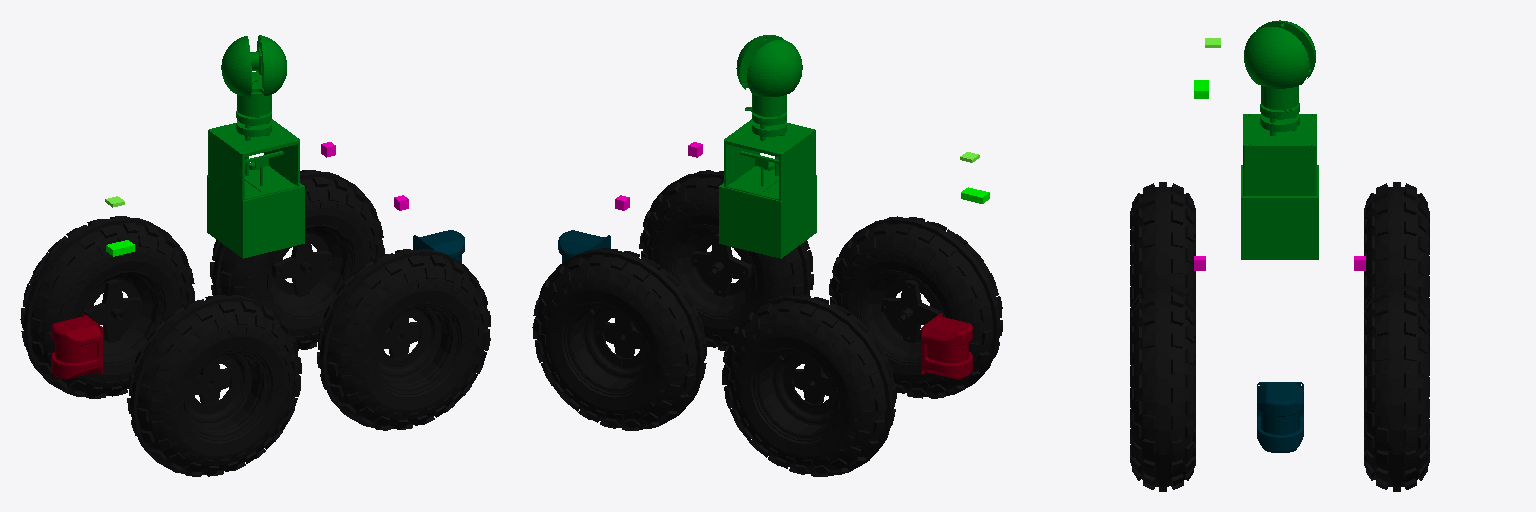
URDF robot description (teo):
<!--
~~~~~~~~~~~~~~~~~~~~~~~~~~~~~~~~~~~~~~~~~~~~~~~~~~~~~~~~~~~~~~~~~~~~~~~~~~~~~~~~
          TEO ROBOT URDF MODEL
~~~~~~~~~~~~~~~~~~~~~~~~~~~~~~~~~~~~~~~~~~~~~~~~~~~~~~~~~~~~~~~~~~~~~~~~~~~~~~~~
          Institut de Robotica i Informatica Industrial (IRI) UPC-CSIC
          author: mmorta
~~~~~~~~~~~~~~~~~~~~~~~~~~~~~~~~~~~~~~~~~~~~~~~~~~~~~~~~~~~~~~~~~~~~~~~~~~~~~~~~
  units: [m], [rad] (SI)
  constants:
  pi   = 3.14159
  pi/2 = 1.57079

  Basic Transformation Pro Engineer to URDF (If no coordinates changed)
    <origin xyz="0 0 0" rpy="1.57079 0 0"/>

  Basic Transformation SolidWorks to URDF
    <origin xyz="0 0 0" rpy="1.57079 0 0"/>
 -->

<robot name="teo"
    xmlns:sensor="http://playerstage.sourceforge.net/gazebo/xmlschema/#sensor"
    xmlns:controller="http://playerstage.sourceforge.net/gazebo/xmlschema/#controller"
    xmlns:interface="http://playerstage.sourceforge.net/gazebo/xmlschema/#interface">


<!-- BODY FOOTPRINT -->
  <!-- link -->
  <link name="base_footprint">
    <visual>
      <origin xyz="0 0 0" rpy="0 0 0"/>
      <geometry>
        <box size="0.01 0.01 0.01"/>
      </geometry>
    </visual>
<!-- gazebo (inertia, collision, material)-->
    <inertial>
      <origin xyz="0 0 0"/>
      <mass value="0.01" />
      <inertia  ixx="0.001" ixy="0.0"  ixz="0.0"  iyy="0.001"  iyz="0.0"  izz="0.001"/>
    </inertial>
    <collision>
      <!-- it has to be the same origin as the visual origin-->
      <origin xyz="0 0 0"/>
      <geometry>
        <!-- box containing the model -->
        <box size="0.01 0.01 0.01"/>
      </geometry>
    </collision>
  </link>


<!-- BODY
      a coordinates center has been added in the CAD model in order to not have
      to change rpy (ref_teo). It is in the middle of the model except the Z
      which is in the wheels' axes' Z
-->
  <!-- joint -->
  <joint name="base_footprint2base_link" type="fixed" >
    <parent link="base_footprint"/>
    <child link="base_link"/>
    <origin xyz="0 0 0.2667" rpy="0 0 0"/>
  </joint>
  <!-- link -->
  <link name="base_link">
    <visual>
      <origin xyz="0 0 0" rpy="0 0 3.14159"/>
      <geometry>
        <!-- pro engineer model exported to STL -->
        <mesh filename="package://teo_base/model/meshes/rmp400_body_m_v2.stl" />
      </geometry>
      <material name="grey">
        <color rgba="0.3 0.3 .3 0.5"/>
      </material>
    </visual>
    <!-- gazebo (inertia, collision, material)-->
    <inertial>
      <origin xyz="0 0 0"/>
      <mass value="100.0" />
      <inertia  ixx="1.748" ixy="0.0"  ixz="0.0"  iyy="8.448"  iyz="0.0"  izz="8.982"/>
    </inertial>
    <collision>
      <!-- it has to be the same origin as the visual origin-->
      <origin xyz="0 0 0.1"/>
      <geometry>
        <!-- leaving some space extra -->
        <box size="1.40 0.45 0.5"/>
      </geometry>
      <material name="red">
        <color rgba="0.8 0.1 .1 0.5"/>
      </material>
    </collision>
  </link>
  <gazebo reference="body">
    <material>PR2/Grey3</material>
  </gazebo>

<!-- WHEEL FRONT LEFT
      It is already rotated in the real CAD file, so the rotation is not
      automatic.
      It is centered in 0, so its joint needs an offset XYZ
-->
  <!-- joint -->
  <joint name="base_link2wheel_fl" type="continuous" >
    <parent link="base_link"/>
    <child link="wheel_fl"/>
    <origin xyz="0.3039 0.2857 0.0" rpy="0 0 0"/>
    <axis xyz="0 1 0" />
  </joint>
  <!-- link -->
  <link name="wheel_fl">
    <visual>
      <origin xyz="0 0 0" rpy="0 0 0 "/>
      <geometry>
        <mesh filename="package://teo_base/model/meshes/rmp400_wheel_m.stl" />
      </geometry>
      <material name="dark_grey">
        <color rgba="0.1 0.1 0.1 1"/>
      </material>
    </visual>
    <inertial>
      <mass value="3.0" />
      <inertia  ixx="0.0529" ixy="0.0"  ixz="0.0"  iyy="0.09375"  iyz="0.0"  izz="0.0529"/>
    </inertial>
    <collision>
      <geometry>
        <cylinder length="0.20" radius="0.28"/>
      </geometry>
    </collision>
  </link>
  <gazebo reference="wheel_fl">
    <material>Gazebo/Black</material>
  </gazebo>

<!-- WHEEL FRONT RIGHT -->
  <!-- joint -->
  <joint name="base_link2wheel_fr" type="continuous" >
    <parent link="base_link"/>
    <child link="wheel_fr"/>
    <origin xyz="0.3039 -0.2857 0.0" rpy="0 0 3.14159"/>
     <axis xyz="0 1 0" />
  </joint>
  <!-- link -->
  <link name="wheel_fr">
    <visual>
      <origin xyz="0 0 0" rpy="0 0 0 "/>
      <geometry>
        <mesh filename="package://teo_base/model/meshes/rmp400_wheel_m.stl" />
      </geometry>
      <material name="dark_grey">
        <color rgba="0.1 0.1 0.1 1"/>
      </material>
    </visual>
    <inertial>
      <mass value="3.0" />
      <inertia  ixx="0.0529" ixy="0.0"  ixz="0.0"  iyy="0.09375"  iyz="0.0"  izz="0.0529"/>
    </inertial>
    <collision>
      <origin xyz="0 0 0" rpy="1.57079 0 0"/>
      <geometry>
        <cylinder length="0.20" radius="0.28"/>
      </geometry>
    </collision>
  </link>
  <gazebo reference="wheel_fr">
    <material>Gazebo/Black</material>
  </gazebo>

<!-- WHEEL BACK LEFT -->
  <!-- joint -->
  <joint name="base_link2wheel_bl" type="continuous" >
    <parent link="base_link"/>
    <child link="wheel_bl"/>
    <origin xyz="-0.3039 0.2857 0.0" rpy="0 0 0"/>
    <axis xyz="0 1 0" />
  </joint>
  <!-- link -->
  <link name="wheel_bl">
    <visual>
      <origin xyz="0 0 0" rpy="0 0 0 "/>
      <geometry>
        <mesh filename="package://teo_base/model/meshes/rmp400_wheel_m.stl" />
      </geometry>
      <material name="dark_grey">
        <color rgba="0.1 0.1 0.1 1"/>
      </material>
    </visual>
    <inertial>
      <mass value="3.0" />
      <inertia  ixx="0.0529" ixy="0.0"  ixz="0.0"  iyy="0.09375"  iyz="0.0"  izz="0.0529"/>
    </inertial>
    <collision>
      <origin xyz="0 0 0" rpy="1.57079 0 0"/>
      <geometry>
        <cylinder length="0.20" radius="0.28"/>
      </geometry>
    </collision>
  </link>
  <gazebo reference="wheel_bl">
    <material>Gazebo/Black</material>
  </gazebo>

<!-- WHEEL BACK RIGHT -->
  <!-- joint -->
  <joint name="base_link2wheel_br" type="continuous" >
    <parent link="base_link"/>
    <child link="wheel_br"/>
    <origin xyz="-0.3039 -0.2857 0.0" rpy="0 0 3.14159"/>
    <axis xyz="0 1 0" />
  </joint>
  <!-- link -->
  <link name="wheel_br">
    <visual>
      <origin xyz="0 0 0" rpy="0 0 0 "/>
      <geometry>
        <mesh filename="package://teo_base/model/meshes/rmp400_wheel_m.stl" />
      </geometry>
      <material name="dark_grey">
        <color rgba="0.1 0.1 0.1 1"/>
      </material>
    </visual>
    <inertial>
      <mass value="3.0" />
      <inertia  ixx="0.0529" ixy="0.0"  ixz="0.0"  iyy="0.09375"  iyz="0.0"  izz="0.0529"/>
    </inertial>
    <collision>
      <origin xyz="0 0 0" rpy="1.57079 0 0"/>
      <geometry>
        <cylinder length="0.20" radius="0.28"/>
      </geometry>
    </collision>
  </link>
  <gazebo reference="wheel_br">
    <material>Gazebo/Black</material>
  </gazebo>


  <!-- FRONT LASER-->
  <!-- joint -->
  <joint name="base_link2front_laser" type="fixed" >
    <parent link="base_link"/>
    <child link="front_laser"/>
    <!--
    x = 0.435 (long box=0.870) + 0.155 (position in frame)
    y = 0
    z = 0.05 (laser position, cc_teo->bottom laser)
    -->
    <origin xyz="0.590 0 0.05" rpy="0 0 0"/>
  </joint>
  <!-- link -->
  <link name="front_laser">
    <visual>
      <!-- from STL origin to real sensor origin 0.0625-->
      <origin xyz="-0.05 -0.06 -0.073" rpy="0 0 0"/>
      <geometry>
        <mesh filename="package://teo_base/model/meshes/UXM30LN_m_v2.stl" />
      </geometry>
      <material name="blue_navy">
        <color rgba="0.0 0.2 0.25 0.5"/>
      </material>
    </visual>
    <inertial>
      <mass value="0.800" />
      <inertia  ixx="0.00238" ixy="0.0"  ixz="0.0"  iyy="0.00246"  iyz="0.0"  izz="0.00200"/>
    </inertial>
    <collision>
      <origin xyz="0 0 0" rpy="0 0 0"/>
      <geometry>
        <box size="0.125 0.120 0.146"/>
      </geometry>
    </collision>
  </link>
  <gazebo reference="front_laser">
    <material>Gazebo/Blue</material>
  </gazebo>


  <!-- REAR LASER-->
  <!-- joint -->
  <joint name="base_link2rear_laser" type="fixed" >
    <parent link="base_link"/>
    <child link="rear_laser"/>
    <!--
    x = 0.435 (long box=0.870) + 0.95 (position in frame)
    y = 0
    z = 0.06 (laser position, cc_teo->bottom laser)
    -->
    <origin xyz="-0.575 0 0.06" rpy="0 0 3.14159"/>
  </joint>
  <!-- link -->
  <link name="rear_laser">
    <visual>
      <!-- from STL origin to real sensor origin -->
      <origin xyz="-0.05 -0.06 -0.073" rpy="0 0 0"/>
      <geometry>
        <mesh filename="package://teo_base/model/meshes/UXM30LN_m_v2.stl" />
      </geometry>
      <material name="red_navy">
        <color rgba="0.5 0.0 0.1 0.5"/>
      </material>
    </visual>
    <inertial>
      <mass value="0.800" />
      <inertia  ixx="0.00238" ixy="0.0"  ixz="0.0"  iyy="0.00246"  iyz="0.0"  izz="0.00200"/>
    </inertial>
    <collision>
      <origin xyz="0 0 0" rpy="0 0 0"/>
      <geometry>
        <box size="0.125 0.120 0.146"/>
      </geometry>
    </collision>
  </link>
  <gazebo reference="rear_laser">
    <material>Gazebo/Red</material>
  </gazebo>


  <!-- H3D LASER-->
  <!-- joint -->
  <joint name="base_link2h3d" type="fixed" >
    <parent link="base_link"/>
    <child link="h3d"/>
    <!-- position of the center of the sensor! -->
    <origin xyz="0 0 0.8" rpy="0 0 0"/>
  </joint>
  <!-- link -->
  <link name="h3d">
    <visual>
      <!-- from STL origin to real sensor origin -->
      <origin xyz="-0.095 -0.095 -0.38" rpy="0 0 0"/>
      <geometry>
        <mesh filename="package://teo_base/model/meshes/h3d.stl" />
      </geometry>
      <material name="green">
        <color rgba="0.0 0.5 0.1 0.5"/>
      </material>
    </visual>
    <inertial>
      <mass value="8.0" />
      <inertia  ixx="0.04113" ixy="0.0"  ixz="0.0"  iyy="0.04113"  iyz="0.0"  izz="0.04813"/>
    </inertial>
    <collision>
      <origin xyz="0 0 0" rpy="0 0 0"/>
      <geometry>
        <box size="0.125 0.120 0.146"/>
      </geometry>
    </collision>
  </link>
  <joint name="h3dsuport" type="fixed" >
    <parent link="h3d"/>
    <child link="h3d_suport"/>
    <!-- position of the center of the sensor! -->
    <origin xyz="0 0 -0.45" rpy="0 0 0"/>
  </joint>
  <!-- link -->
  <link name="h3d_suport">
    <visual>
      <!-- from STL origin to real sensor origin -->
      <origin xyz="0 0 0" rpy="0 0 0"/>
      <geometry>
        <box size="0.2 0.2 0.175" />
      </geometry>
      <material name="green">
        <color rgba="0.0 0.5 0.1 0.5"/>
      </material>
    </visual>
    <inertial>
      <mass value="2.0" />
      <inertia  ixx="0.01" ixy="0.0"  ixz="0.0"  iyy="0.01"  iyz="0.0"  izz="0.01"/>
    </inertial>
    <collision>
      <origin xyz="0 0 0" rpy="0 0 0"/>
      <geometry>
        <box size="0.2 0.2 0.175" />
      </geometry>
    </collision>
  </link>
  <gazebo reference="h3d">
    <material>Gazebo/Green</material>
  </gazebo>
  <gazebo reference="h3d_suport">
    <material>Gazebo/Green</material>
  </gazebo>


  <!-- FLOOR LASER-->
  <!-- joint -->
  <joint name="base_link2floor_laser" type="fixed" >
    <parent link="base_link"/>
    <child link="floor_laser"/>->
    <origin xyz="0.485 0 -0.01" rpy="3.14159 0.314159 0"/>
  </joint>
  <!-- link -->
  <link name="floor_laser">
    <visual>
      <!-- from STL origin to real sensor origin -->
      <origin xyz="0 0 0" rpy="0 0 0"/>
      <geometry>
        <box size="0.050 0.050 0.070"/>
      </geometry>
      <material name="yellow">
        <color rgba="1 1 0.0 1"/>
      </material>
    </visual>
    <inertial>
      <mass value="0.141" />
      <inertia  ixx="0.0001" ixy="0.0"  ixz="0.0"  iyy="0.0001"  iyz="0.0"  izz="0.0001"/>
    </inertial>
    <collision>
      <origin xyz="-0.0 0.0 0" rpy="0 0 0"/>
      <geometry>
        <box size="0.050 0.050 0.070"/>
      </geometry>
    </collision>
  </link>
  <gazebo reference="floor_laser">
    <material>Gazebo/Yellow</material>
  </gazebo>

  <!-- STEREO RIGHT-->
  <!-- joint -->
  <joint name="base_link2stereo_right" type="fixed" >
    <parent link="base_link"/>
    <child link="stereo_right"/>->
    <origin xyz="0.350 0.203 0.370" rpy="0 0 0"/>
  </joint>
  <!-- link -->
  <link name="stereo_right">
    <visual>
      <!-- from STL origin to real sensor origin -->
      <origin xyz="0 0 0" rpy="0 0 0"/>
      <geometry>
        <box size="0.030 0.030 0.030"/>
      </geometry>
      <material name="pink">
        <color rgba="1 0 0.8 1"/>
      </material>
    </visual>
    <inertial>
      <mass value="0.141" />
      <inertia  ixx="0.0001" ixy="0.0"  ixz="0.0"  iyy="0.0001"  iyz="0.0"  izz="0.0001"/>
    </inertial>
    <collision>
      <origin xyz="-0.0 0.0 0" rpy="0 0 0"/>
      <geometry>
        <box size="0.030 0.030 0.030"/>
      </geometry>
    </collision>
  </link>
  <gazebo reference="stereo_right">
    <material>Gazebo/Pink</material>
  </gazebo>

  <!-- STEREO LEFT-->
  <!-- joint -->
  <joint name="base_link2stereo_left" type="fixed" >
    <parent link="base_link"/>
    <child link="stereo_left"/>->
    <origin xyz="0.350 -0.203 0.370" rpy="0 0 0"/>
  </joint>
  <!-- link -->
  <link name="stereo_left">
    <visual>
      <!-- from STL origin to real sensor origin -->
      <origin xyz="0 0 0" rpy="0 0 0"/>
      <geometry>
        <box size="0.030 0.030 0.030"/>
      </geometry>
      <material name="pink">
        <color rgba="1 0 0.8 1"/>
      </material>
    </visual>
    <inertial>
      <mass value="0.141" />
      <inertia  ixx="0.0001" ixy="0.0"  ixz="0.0"  iyy="0.0001"  iyz="0.0"  izz="0.0001"/>
    </inertial>
    <collision>
      <origin xyz="-0.0 0.0 0" rpy="0 0 0"/>
      <geometry>
        <box size="0.030 0.030 0.030"/>
      </geometry>
    </collision>
  </link>
  <gazebo reference="stereo_left">
    <material>Gazebo/Pink</material>
  </gazebo>

  <!-- COMPASS -->
  <!-- joint -->
  <joint name="base_link2compass" type="fixed" >
    <parent link="base_link"/>
    <child link="compass"/>
    <origin xyz="-0.550 -0.2 0.44" rpy="0 0 0"/>
  </joint>
  <!-- link -->
  <link name="compass">
    <visual>

      <origin xyz="0 0 0" rpy="0 0 0"/>
      <geometry>
        <box size="0.070 0.040 0.020"/>
      </geometry>
      <material name="green">
        <color rgba="0.0 1 0.0 1"/>
      </material>
    </visual>
    <inertial>
      <mass value="0.001" />
      <inertia  ixx="0.00001" ixy="0.0"  ixz="0.0"  iyy="0.00001"  iyz="0.0"  izz="0.000002"/>
    </inertial>
    <collision>
      <origin xyz="0 0 0" rpy="0 0 0"/>
      <geometry>
        <box size="0.070 0.040 0.020"/>
      </geometry>
    </collision>
  </link>
  <gazebo reference="compass">
    <material>Gazebo/Red</material>
  </gazebo>

  <!-- GPS -->
  <!-- joint -->
  <joint name="base_link2gps" type="fixed" >
    <parent link="base_link"/>
    <child link="gps"/>
    <origin xyz="-0.550 -0.17 0.57" rpy="0 0 0"/>
  </joint>
  <!-- link -->
  <link name="gps">
    <visual>

      <origin xyz="0 0 0" rpy="0 0 0"/>
      <geometry>
        <box size="0.040 0.040 0.01"/>
      </geometry>
      <material name="green2">
        <color rgba="0.5 1 0.3 1"/>
      </material>
    </visual>
    <inertial>
      <mass value="0.001" />
      <inertia  ixx="0.00001" ixy="0.0"  ixz="0.0"  iyy="0.00001"  iyz="0.0"  izz="0.000002"/>
    </inertial>
    <collision>
      <origin xyz="0 0 0" rpy="0 0 0"/>
      <geometry>
        <box size="0.040 0.040 0.010"/>
      </geometry>
    </collision>
  </link>
  <gazebo reference="gps">
    <material>Gazebo/Red</material>
  </gazebo>



  <gazebo>
    <controller:teo_plugin name="teo_driver" plugin="libteo_plugin.so">
      <alwaysOn>true</alwaysOn>
      <update>100</update>
      <updateRate>50.0</updateRate>
      <fr_joint>base_link2wheel_fr</fr_joint>
      <fl_joint>base_link2wheel_fl</fl_joint>
      <br_joint>base_link2wheel_br</br_joint>
      <bl_joint>base_link2wheel_bl</bl_joint>
      <interface:position name="position_iface_0"/>
      <robotNamespace>/</robotNamespace>
      <topicName>cmd_vel</topicName>
    </controller:teo_plugin>
  </gazebo>

</robot>

--- What the picture shows (computed from the rendered views, not written in the file) ---
3 views of the same robot in one strip: view 1: azimuth 30°, elevation 25°; view 2: azimuth 150°, elevation 25°; view 3: azimuth 270°, elevation 25° (orthographic).
Robot: teo — 15 links, 14 joints (4 continuous, 10 fixed); root link base_footprint; default pose: all joints at 0.
Visible links, largest first — view 1: wheel_br, wheel_fr, wheel_bl, wheel_fl, h3d, h3d_suport, rear_laser, front_laser; view 2: wheel_fl, wheel_bl, wheel_br, wheel_fr, h3d, h3d_suport, rear_laser, front_laser; view 3: wheel_fl, wheel_fr, h3d, wheel_bl, wheel_br, h3d_suport, front_laser.
Link boxes in pixels (x1,y1,x2,y2): wheel_br: [127, 295, 301, 476]; wheel_fr: [317, 248, 490, 430]; wheel_bl: [20, 216, 194, 398]; wheel_fl: [210, 170, 384, 349]; h3d: [208, 35, 299, 205]; h3d_suport: [207, 166, 304, 258]; rear_laser: [51, 313, 102, 379]; front_laser: [413, 230, 464, 262]; wheel_fl: [532, 248, 706, 430]; wheel_bl: [722, 295, 896, 476]; wheel_br: [829, 216, 1002, 398]; wheel_fr: [639, 170, 813, 350]; h3d: [724, 35, 815, 205]; h3d_suport: [719, 166, 816, 258]; rear_laser: [921, 313, 972, 379]; front_laser: [558, 230, 610, 262]; wheel_fl: [1364, 283, 1429, 491]; wheel_fr: [1130, 283, 1195, 491]; h3d: [1243, 20, 1316, 195]; wheel_bl: [1364, 182, 1429, 355]; wheel_br: [1130, 182, 1195, 346]; h3d_suport: [1241, 165, 1318, 259]; front_laser: [1257, 382, 1303, 452].
Bounding box of the posed robot: 1.31 × 0.7627 × 1.15 m (x, y, z).
7 mesh visuals loaded from 4 distinct referenced files (3 binary STL); not drawn: 1 (reference not matched to a file when rendering).
